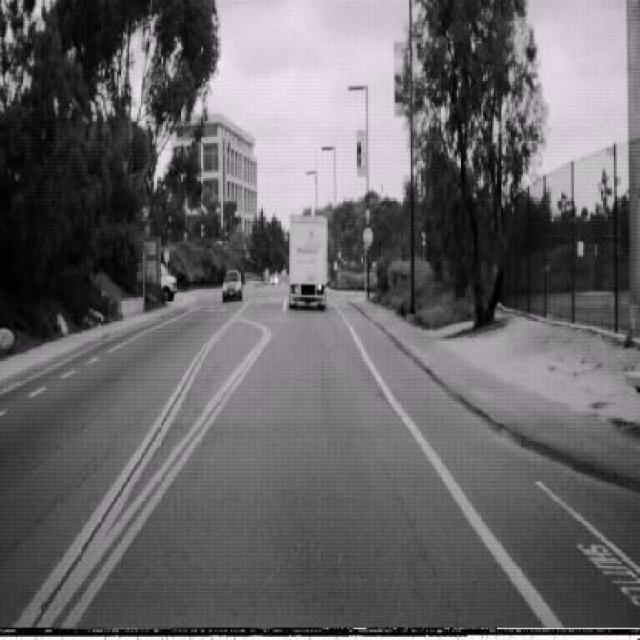stop: (363, 226, 373, 248)
